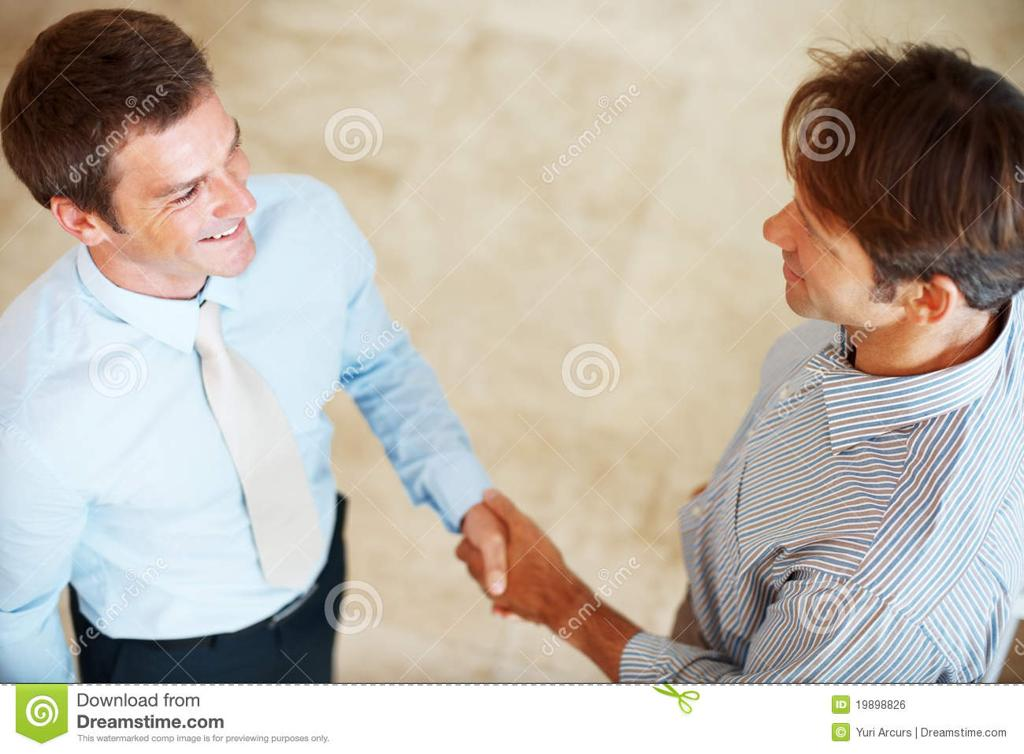face: (766, 120, 912, 322), (100, 92, 256, 274)
